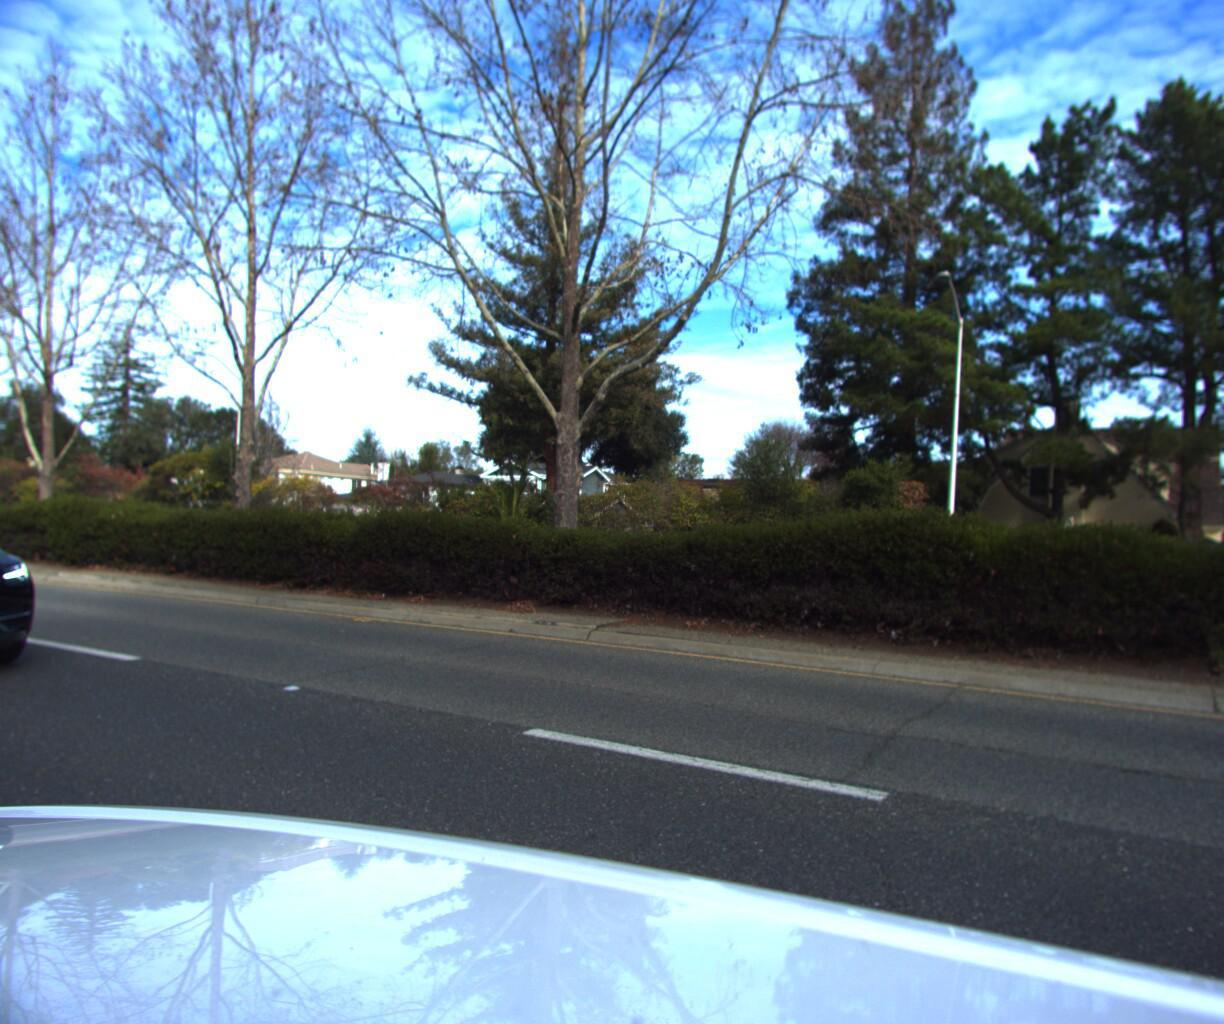car: (1002, 502, 1224, 591), (0, 458, 64, 731)
